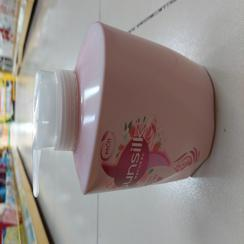sunsilk pink: (24, 24, 221, 196)
